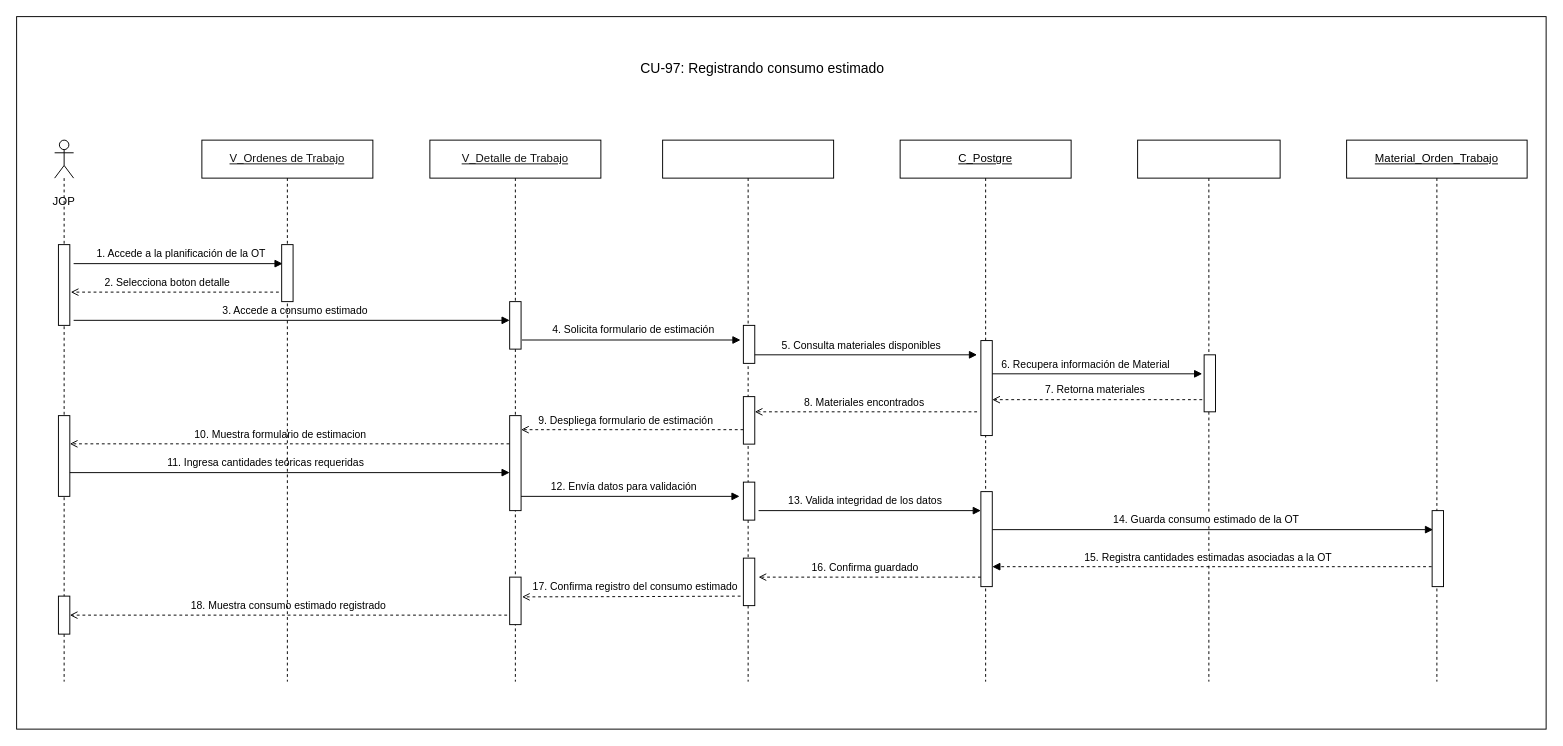
Some shapes in this 1563 by 746 pixel diagram are drawn without their labels. The box of each missing label's shape, as (x1, y1, x2, y2) in pixels:
C_ materiales: (662, 139, 834, 682)
Material: (1137, 139, 1280, 682)
